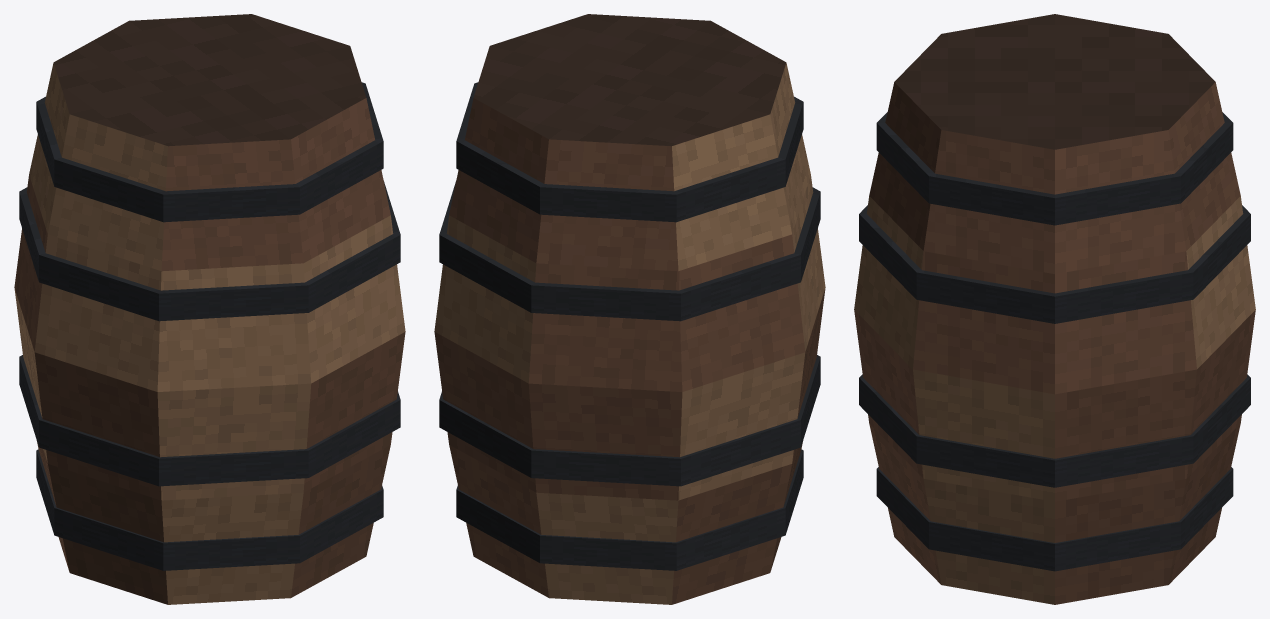
File: barrel.glb
The picture shows the model from 3 angles, left to right: view 1: azimuth 30°, elevation 25°; view 2: azimuth 150°, elevation 25°; view 3: azimuth 270°, elevation 25°; orthographic projection.
Parts seen in each view (by area): view 1: barrel; view 2: barrel; view 3: barrel.
Part boxes in pixels (left/top/right/bottom): barrel: left=14, top=14, right=405, bottom=604; barrel: left=434, top=14, right=825, bottom=604; barrel: left=854, top=14, right=1255, bottom=604.
Bounding box in the file's own units: 0.8 × 1 × 0.8.
Materials: 1 (1 with a texture image).
